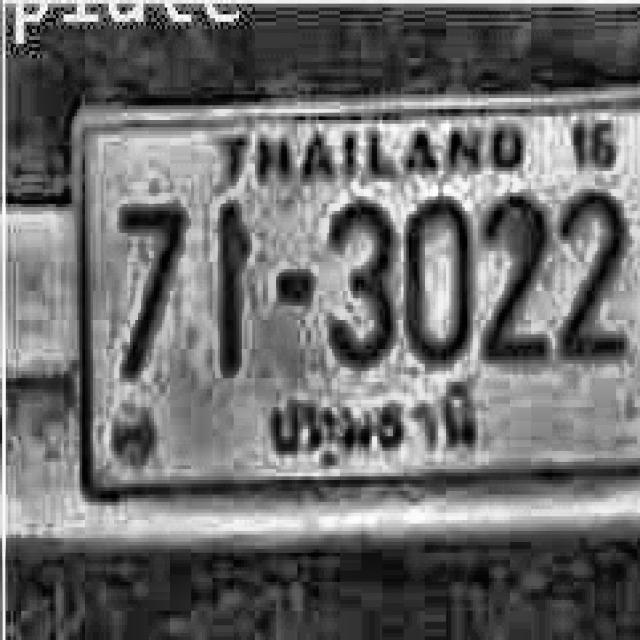license-plate: (63, 71, 640, 517)
